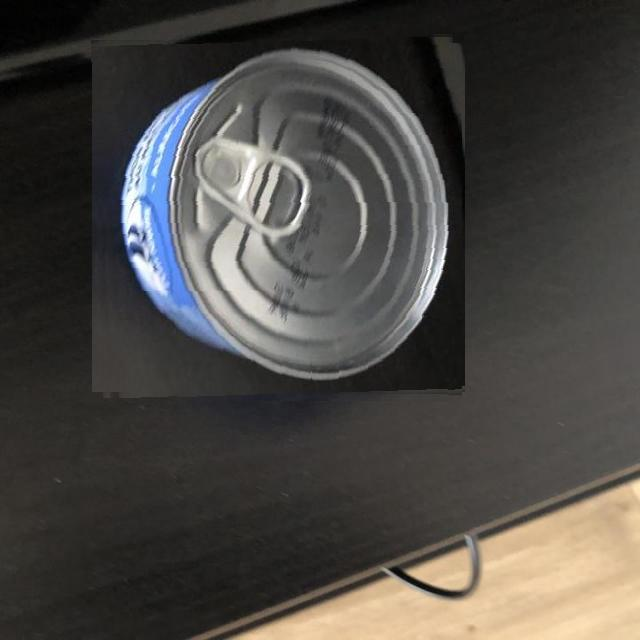recyclable: (94, 31, 462, 401)
